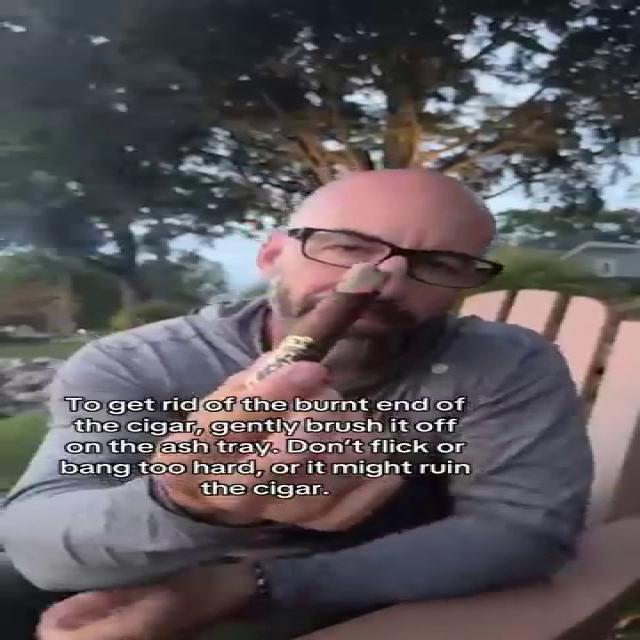Cigarette: (242, 262, 392, 394)
Hand: (167, 358, 411, 530)
